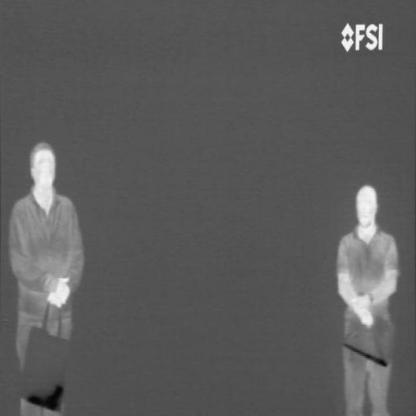weapon: (26, 382, 66, 412)
